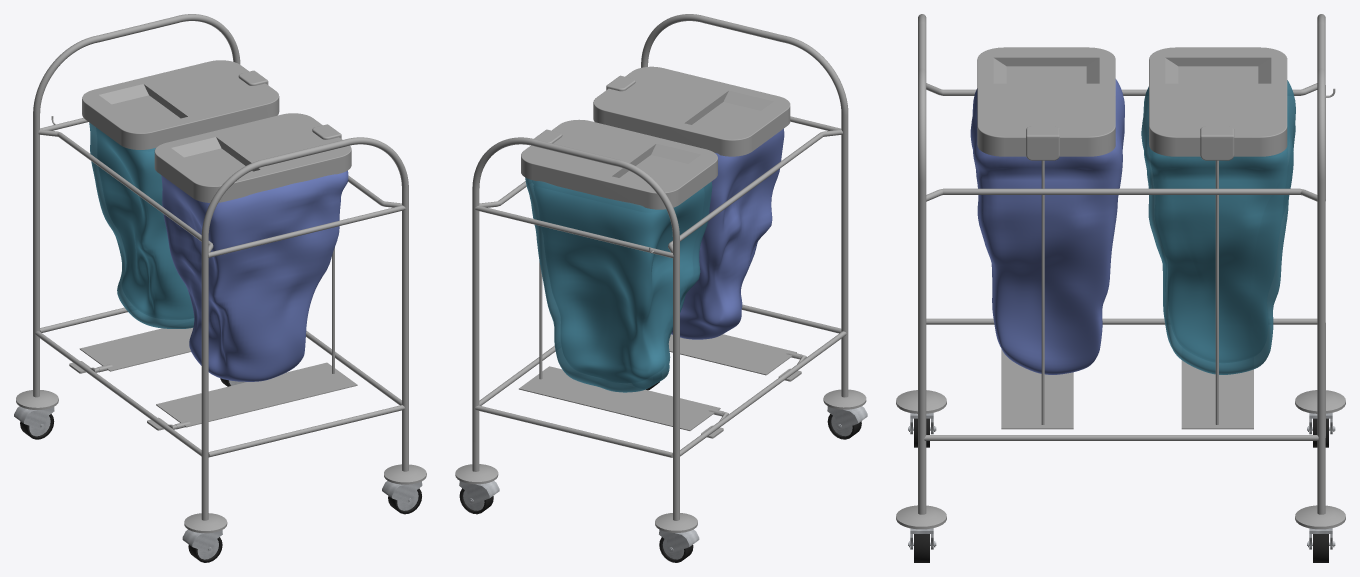
The model's file is sink.fbx.
3 views of the same model, side by side, from view 1: azimuth 30°, elevation 25°; view 2: azimuth 150°, elevation 25°; view 3: azimuth 270°, elevation 25° (orthographic). The views are drawn at different scales.
Parts seen in each view (by area): view 1: pCube47, pCylinder59, pCube45, pCube23, pCube11, pCube5, pCube4, group17, group23, group25, pCylinder58, pCylinder64 (+1 smaller); view 2: pCube23, pCylinder59, pCube11, pCube45, pCube47, pCube4, pCube5, group17, group23, group24, pCylinder58, pCylinder63 (+1 smaller); view 3: pCube47, pCube23, pCylinder59, pCube45, pCube11, pCube5, pCube4, pCube12, pCube13, pCylinder55, pCylinder56, pCylinder63 (+5 smaller).
Part boxes in pixels (box(x1,y1,x2,y2)): pCube47: box(161, 170, 348, 381); pCylinder59: box(33, 14, 408, 520); pCube45: box(82, 60, 279, 149); pCube23: box(89, 122, 194, 328); pCube11: box(154, 113, 351, 202); pCube5: box(156, 362, 357, 427); pCube4: box(79, 328, 192, 371); group17: box(182, 529, 222, 562); group23: box(14, 406, 54, 439); group25: box(382, 481, 422, 514); pCylinder58: box(184, 513, 227, 533); pCylinder64: box(384, 464, 426, 484); pCube23: box(525, 177, 712, 392); pCylinder59: box(472, 14, 848, 520); pCube11: box(593, 66, 790, 156); pCube45: box(521, 119, 717, 209); pCube47: box(671, 128, 784, 339); pCube4: box(519, 366, 720, 430); pCube5: box(668, 334, 796, 375); group17: box(827, 406, 867, 439); group23: box(659, 529, 699, 562); group24: box(459, 481, 499, 514); pCylinder58: box(823, 389, 866, 409); pCylinder63: box(455, 464, 498, 484); pCube47: box(970, 79, 1124, 374); pCube23: box(1141, 80, 1295, 374); pCylinder59: box(918, 14, 1335, 514); pCube45: box(1149, 47, 1287, 156); pCube11: box(977, 47, 1115, 156); pCube5: box(1001, 349, 1073, 429); pCube4: box(1181, 360, 1253, 429); pCube12: box(1200, 126, 1234, 160); pCube13: box(1026, 126, 1059, 160); pCylinder55: box(1215, 160, 1218, 424); pCylinder56: box(1041, 160, 1044, 424); pCylinder63: box(1295, 505, 1345, 529).
Bounding box in the file's own units: 0.8803 × 1.37 × 1.22.
